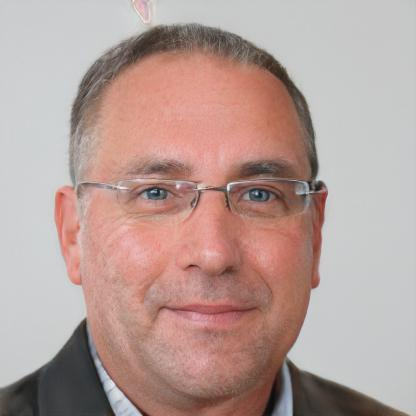glasses: (105, 165, 313, 227)
